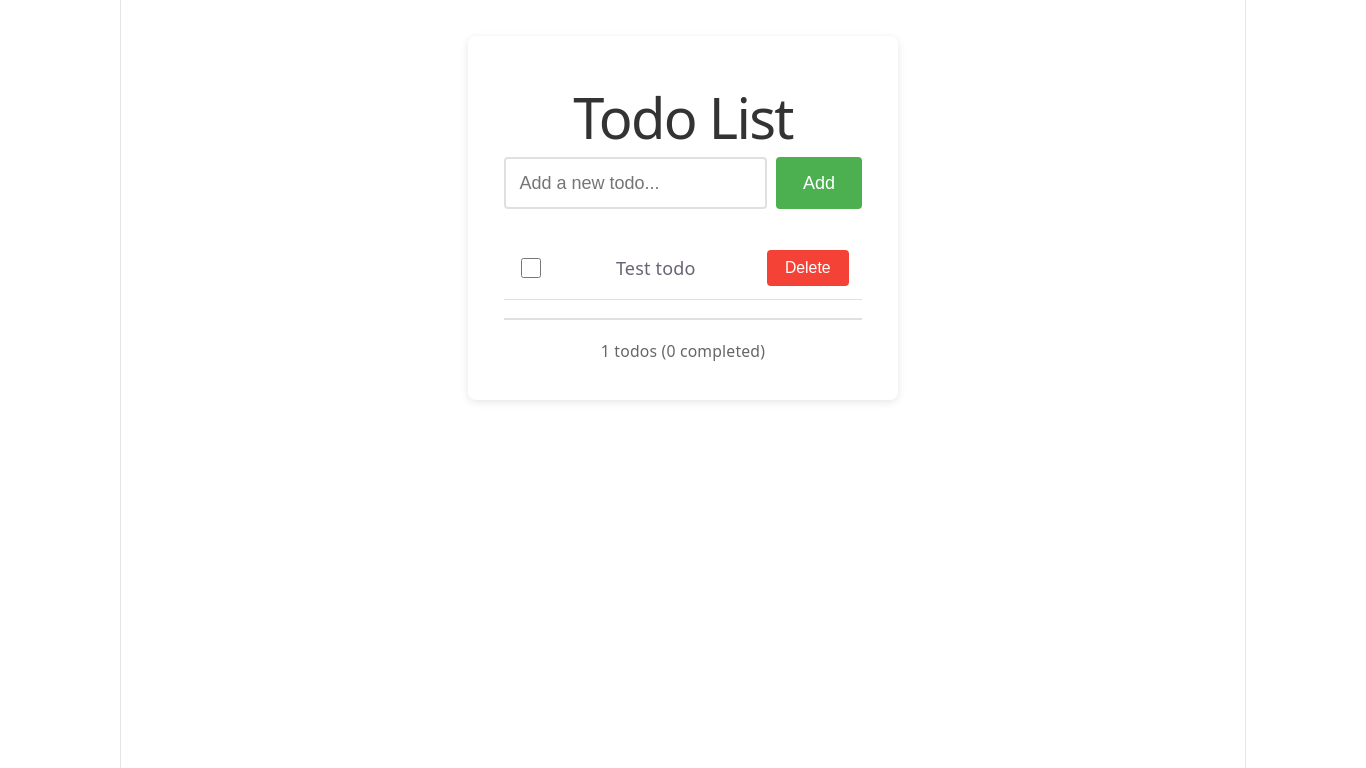
TodoList Component › Toggling Todos › toggles todo completion status
Click the checkbox with test id "todo-checkbox-1" at {"x": 532, "y": 268}, box [522,258,542,278]
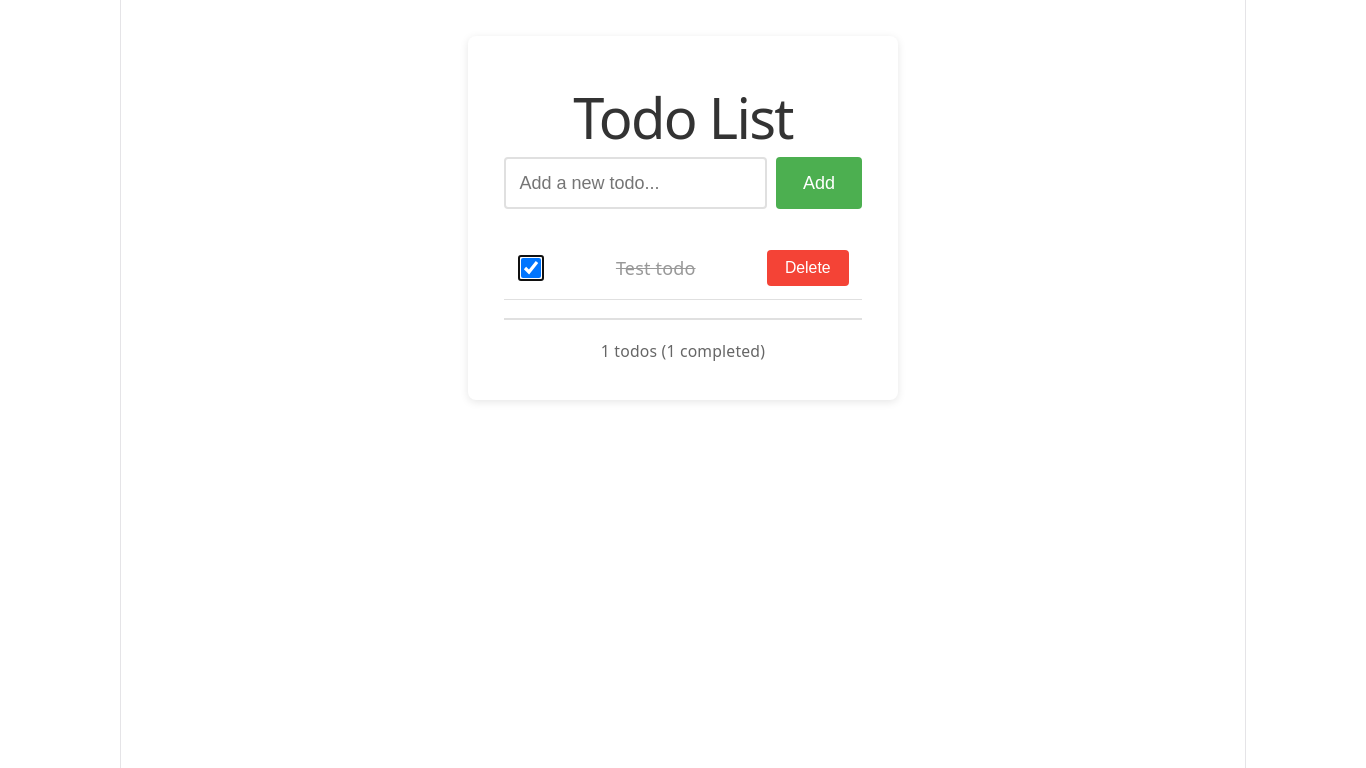
Now the checkbox with test id "todo-checkbox-1" is checked
Now the text with test id "todo-count" reads "1 todos (1 completed)", box [504,318,862,364]
Click the checkbox with test id "todo-checkbox-1" at {"x": 532, "y": 268}, box [522,258,542,278]
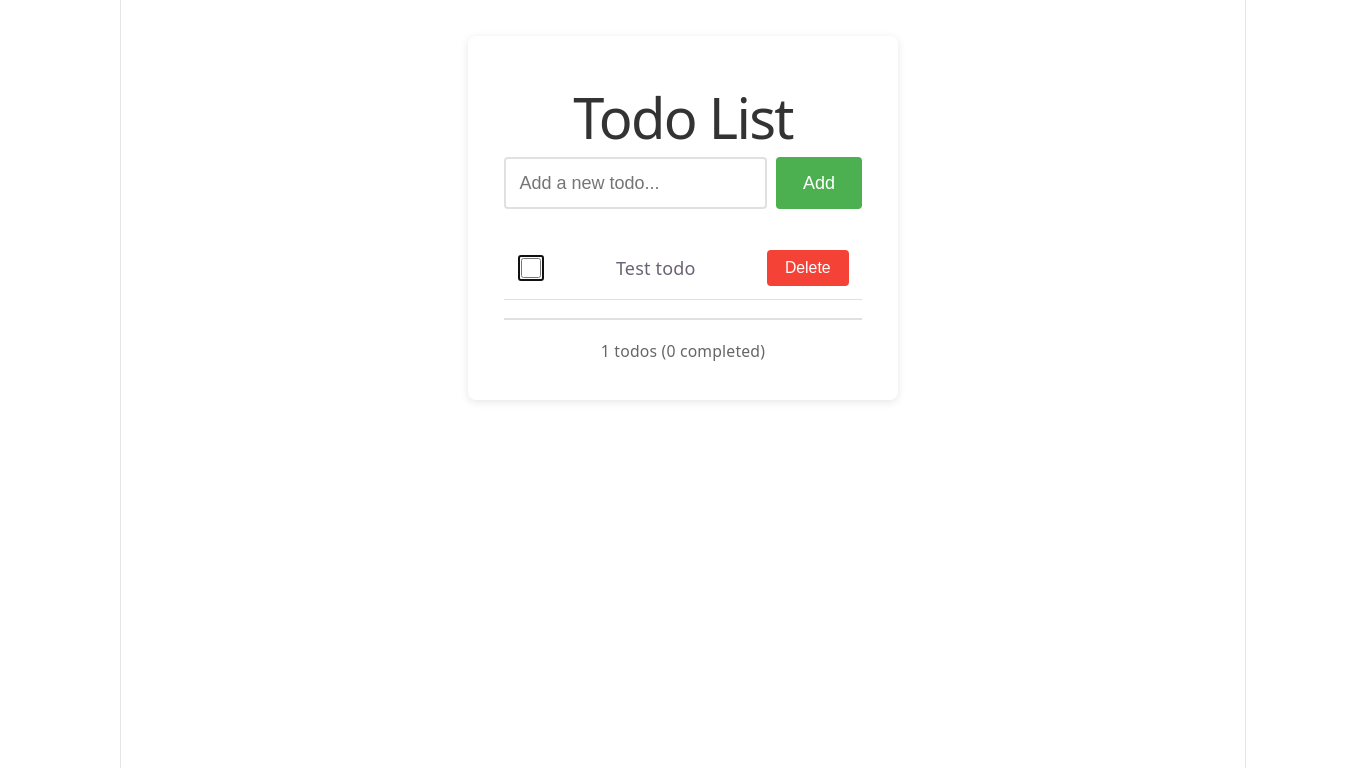
Now the checkbox with test id "todo-checkbox-1" is not checked, box [522,258,542,278]
Now the text with test id "todo-count" reads "1 todos (0 completed)", box [504,318,862,364]
